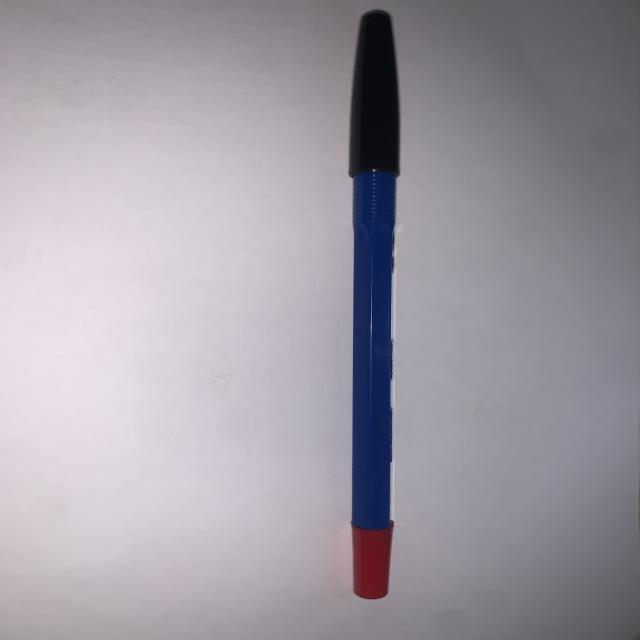Pulpen: (340, 2, 430, 616)
